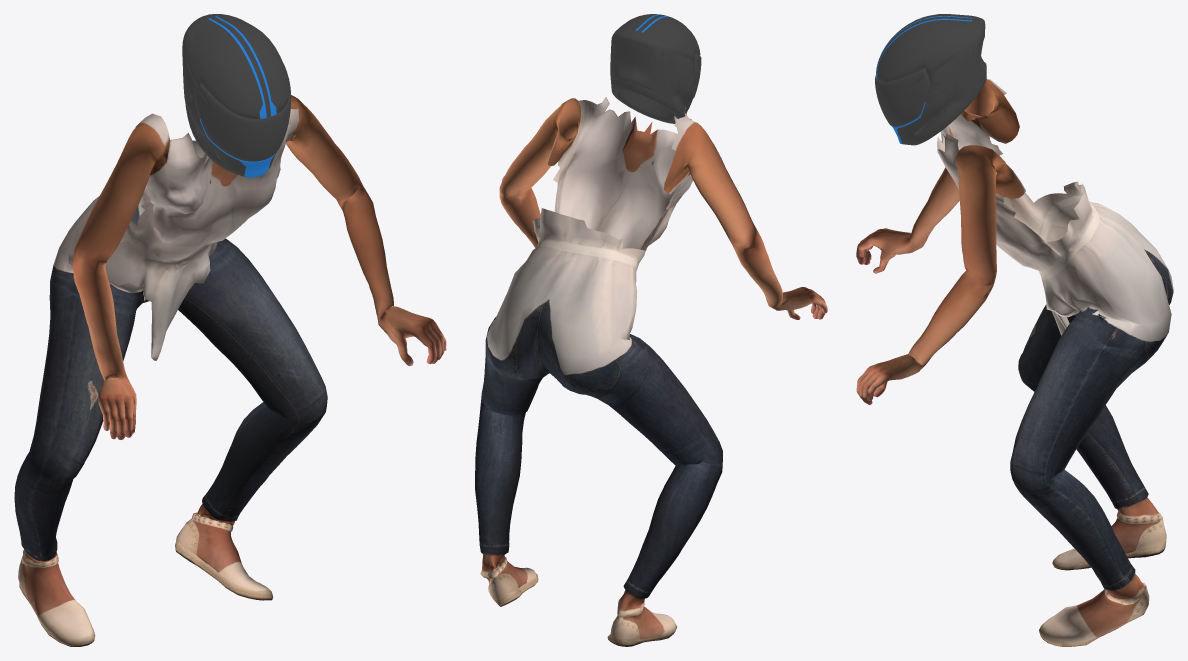
3 views of the same model, side by side, from view 1: azimuth 30°, elevation 25°; view 2: azimuth 150°, elevation 25°; view 3: azimuth 270°, elevation 25° (orthographic). The views are drawn at different scales.
Parts seen in each view (by area): view 1: rider, helmet; view 2: rider, helmet; view 3: rider, helmet.
Part boxes in pixels (left/top/right/bottom): rider: left=14, top=95, right=446, bottom=646; helmet: left=182, top=14, right=290, bottom=177; rider: left=475, top=97, right=827, bottom=646; helmet: left=610, top=14, right=701, bottom=123; rider: left=856, top=78, right=1173, bottom=646; helmet: left=875, top=14, right=986, bottom=145.
Size of the model in its own units: 0.7987 by 1.44 by 0.7084.
Materials: 2 (2 with a texture image).
